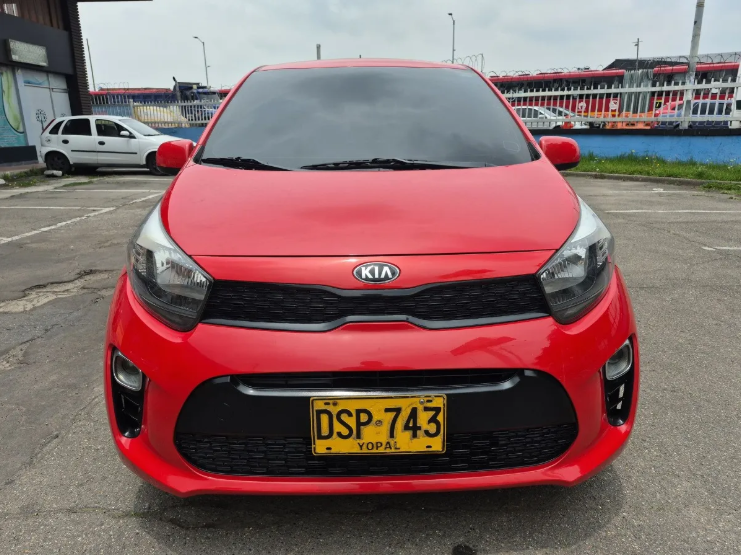placa: (311, 398, 444, 453)
